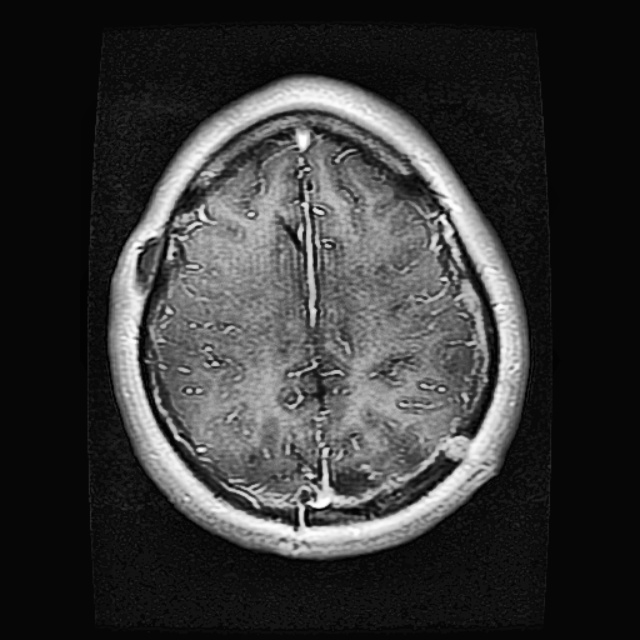Meningioma: (328, 464, 379, 497)
